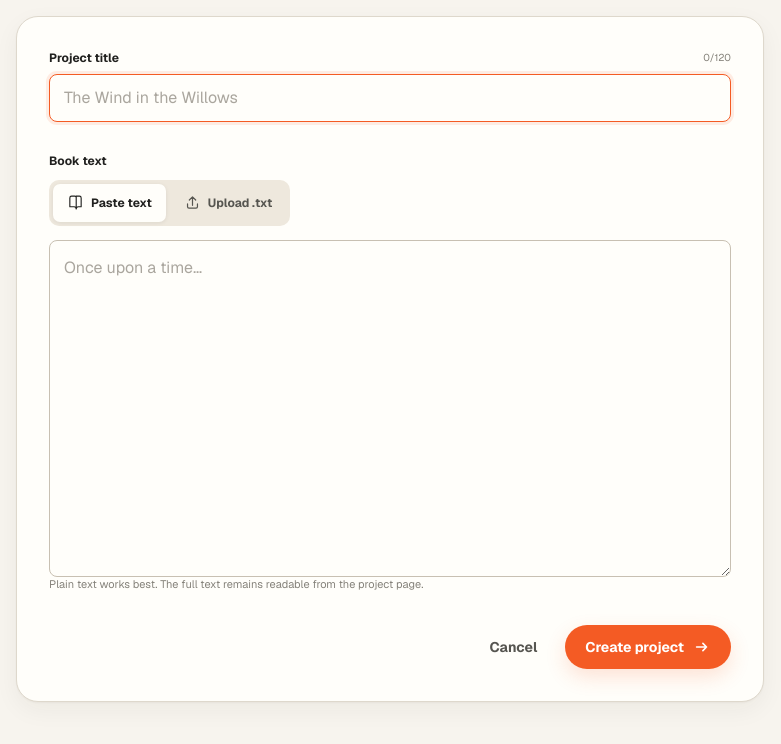
it: NewProjectForm › validates the title and selected book source
(page scrolled)
Click the button "Create project": coordinates (648, 647) [565,625,731,669]
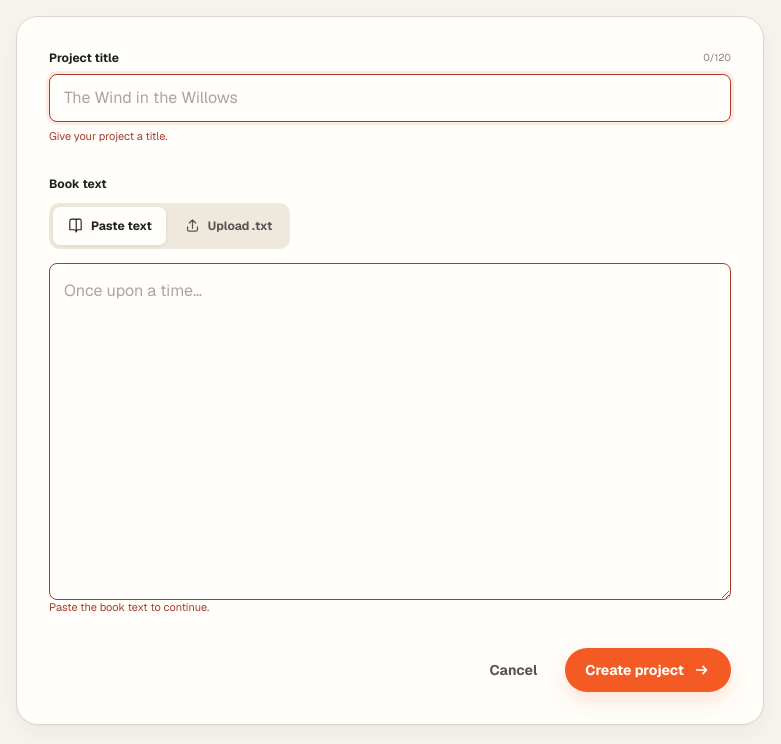
Expected: the text "Give your project a title." is shown, [49,129,168,143]
Expected: the text "Paste the book text to continue." is shown, [49,600,209,614]
